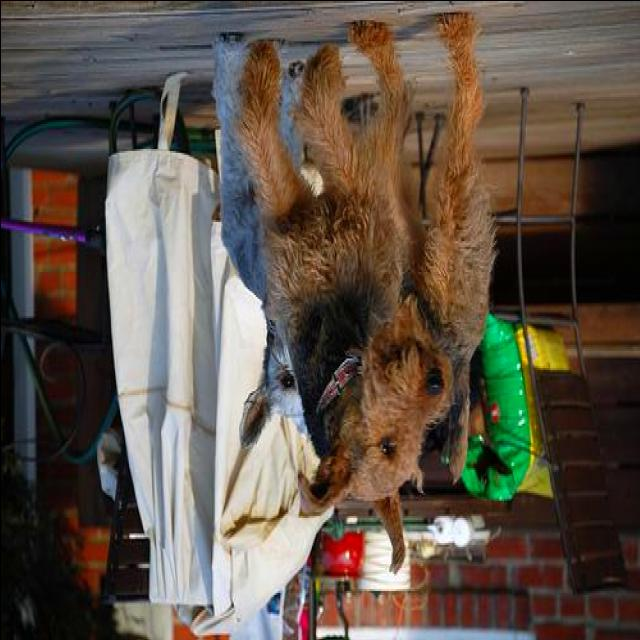airedale: (236, 12, 504, 574), (211, 29, 309, 452)
